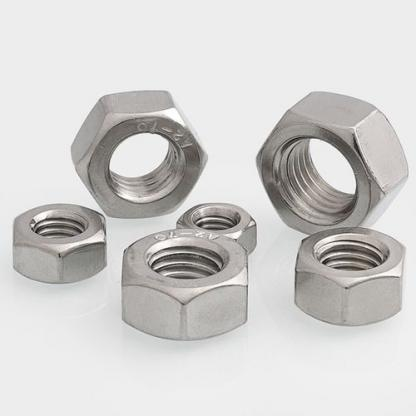FOD: (252, 88, 411, 236), (69, 89, 209, 220), (117, 229, 250, 345), (292, 224, 408, 328), (8, 202, 108, 286), (175, 202, 261, 257)
